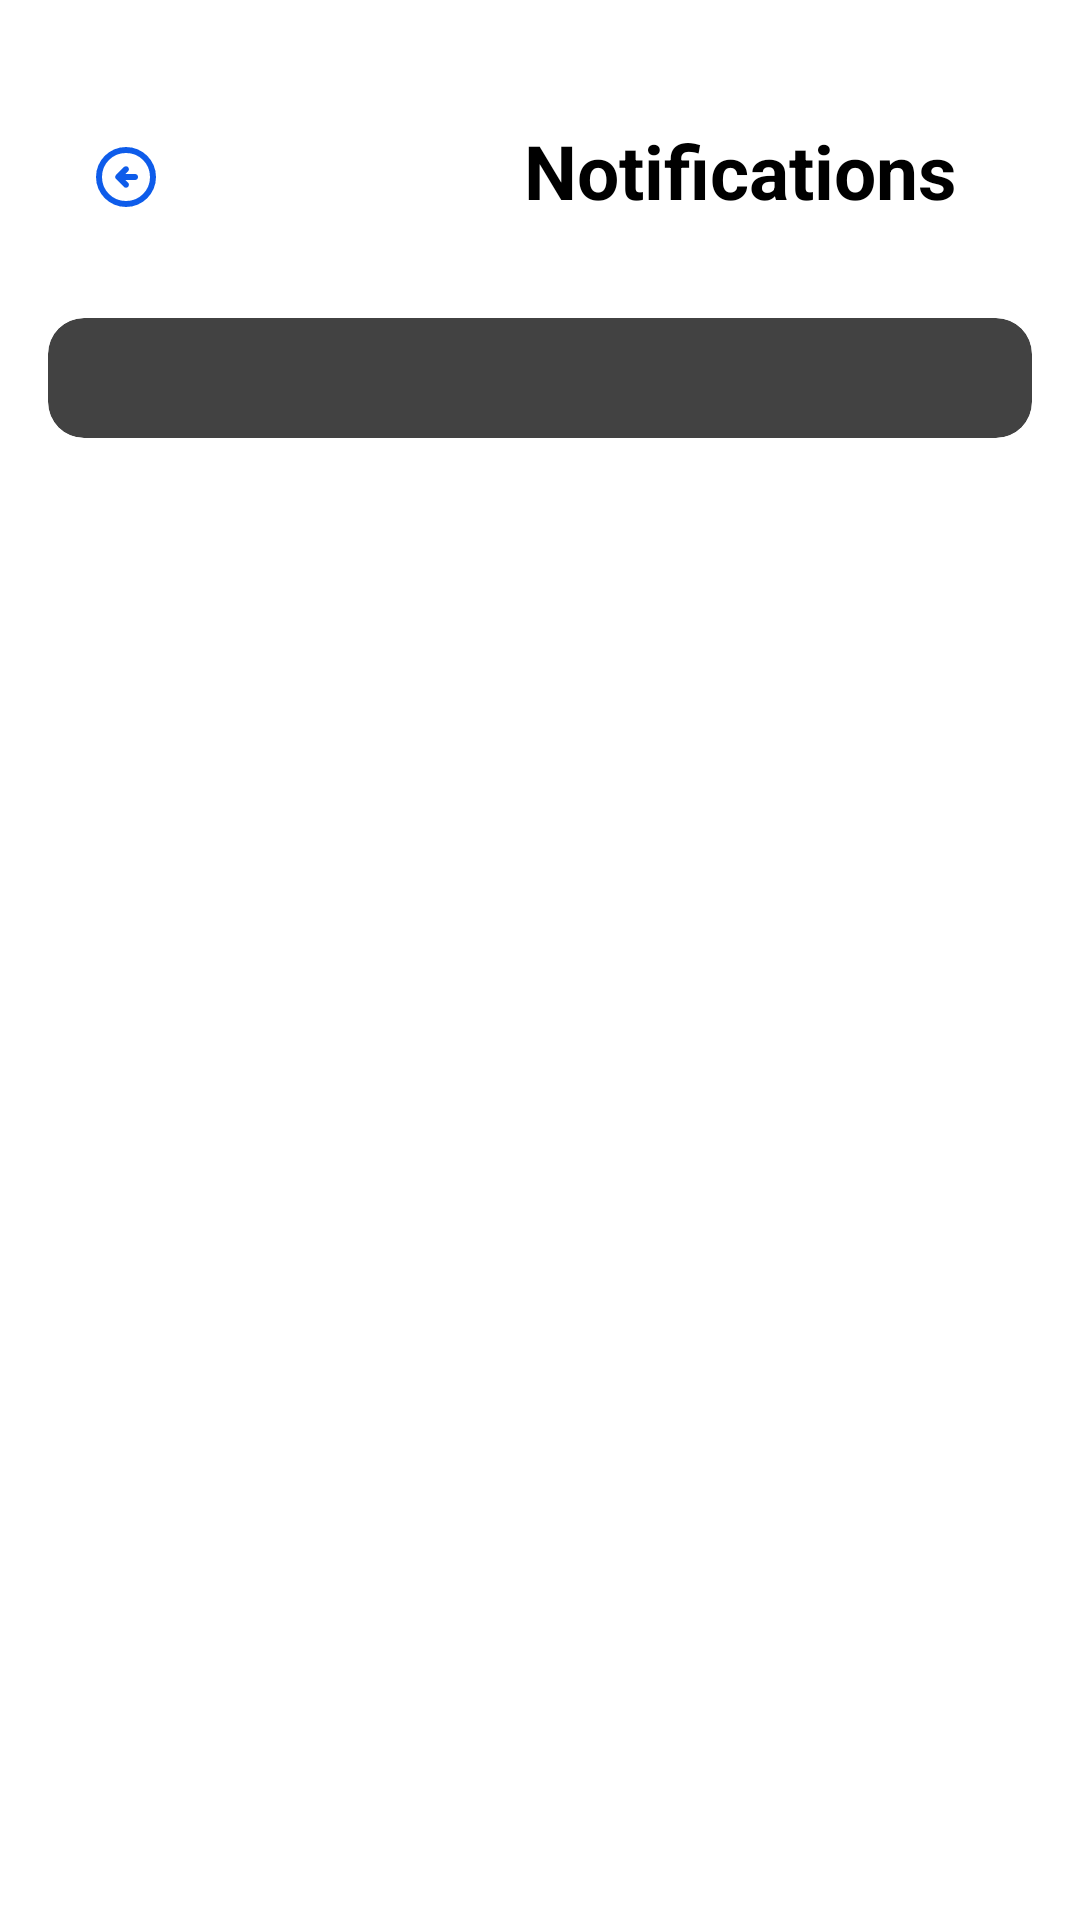

Icons on this 1080px×1920px Android screen, each with its box as (x1, y1, x2, y2):
arrow circle left: (96, 147, 156, 207)
